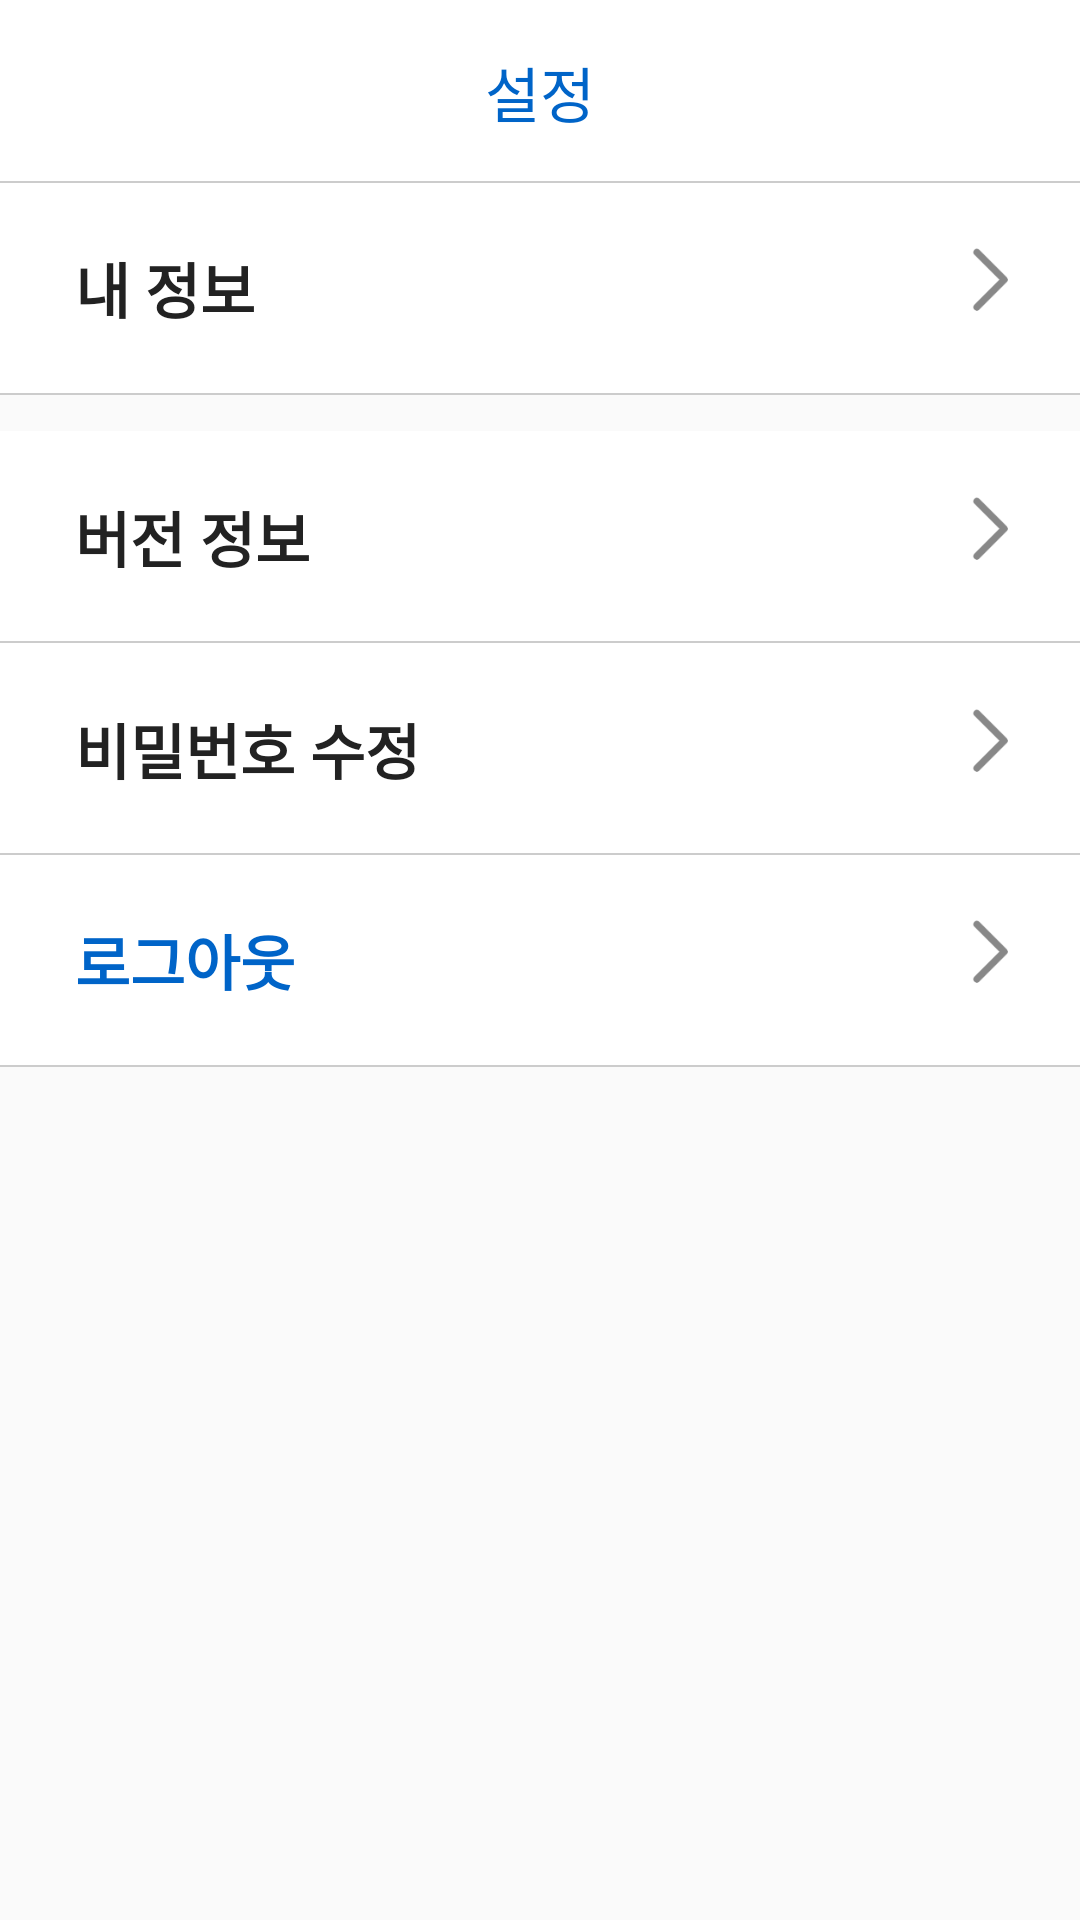

Point at icon controls on the screen. Image size 1080w x 1920h, points as point (x, y).
notice right: point (990, 279), point (990, 528), point (990, 740), point (990, 951)
